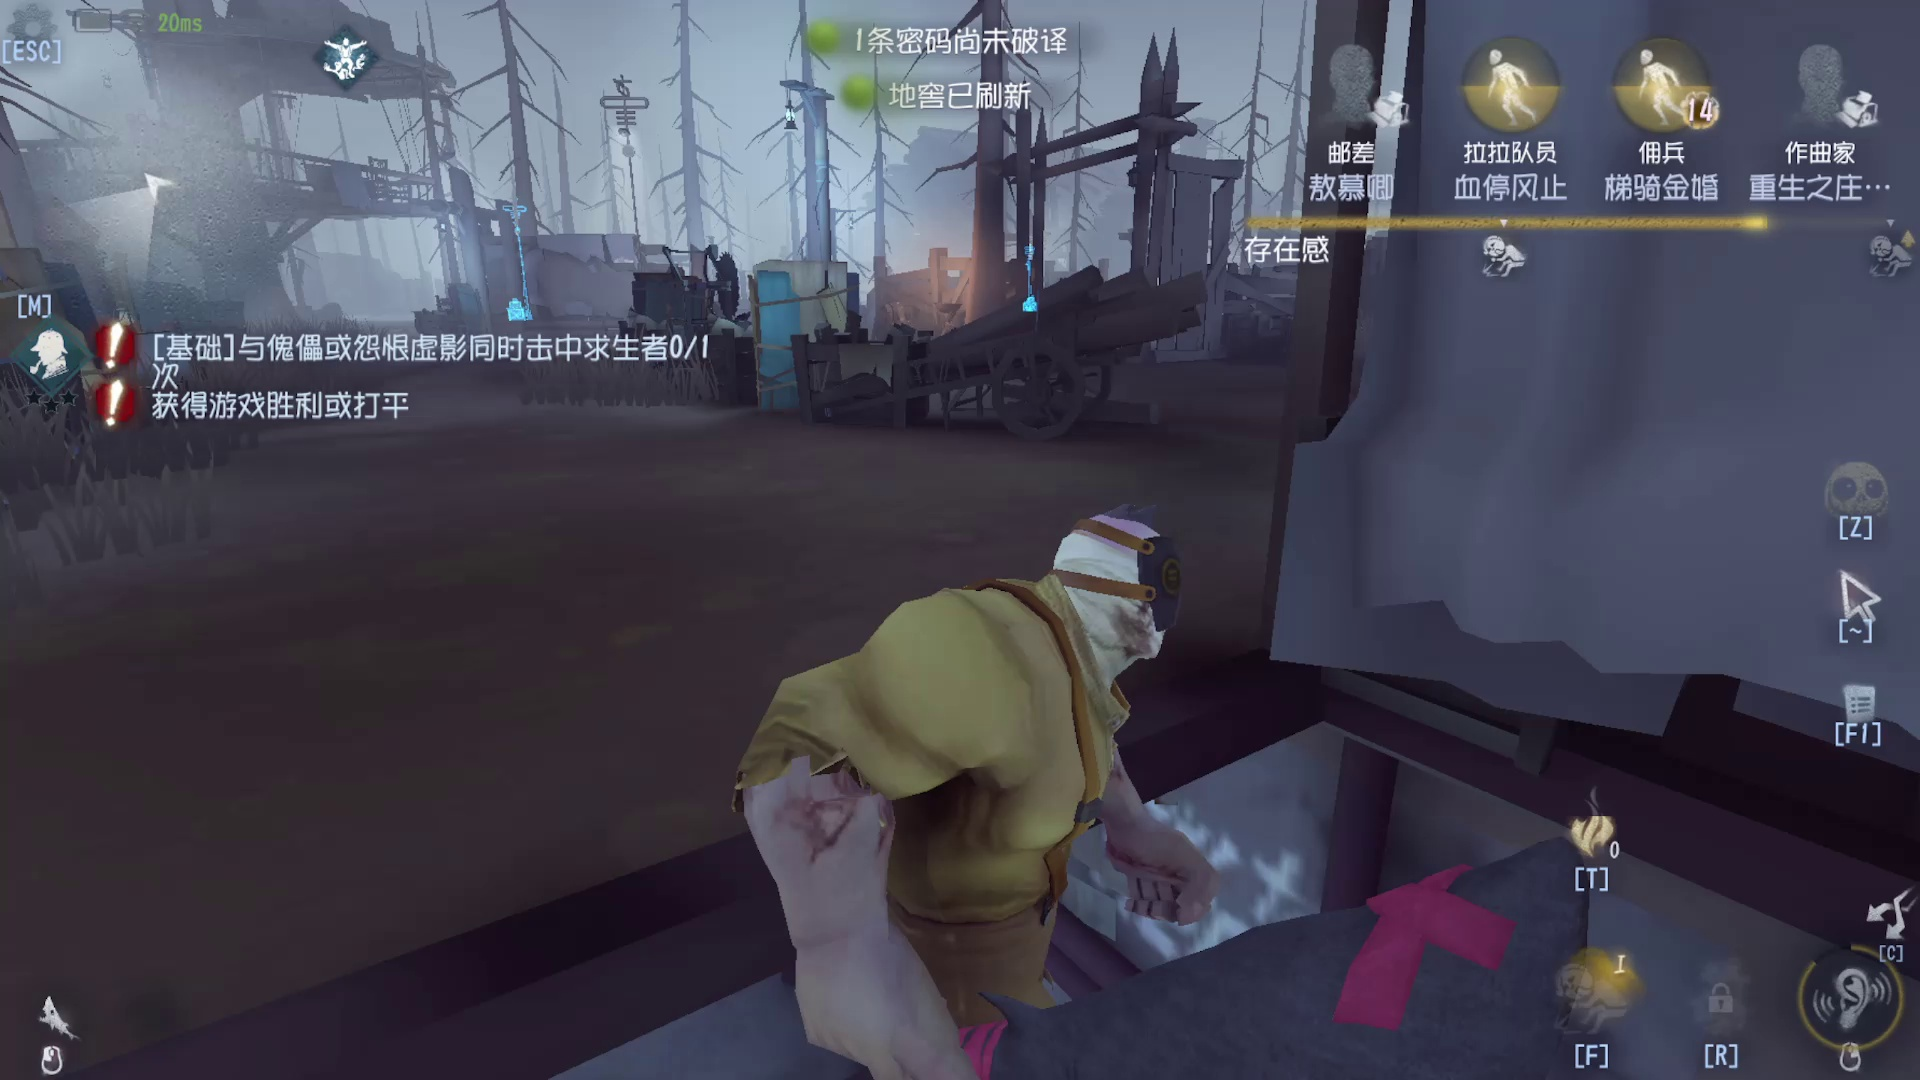密码机: (495, 177, 554, 340), (1013, 204, 1077, 331)
木板: (740, 245, 869, 423)
设置: (1, 1, 82, 90)
